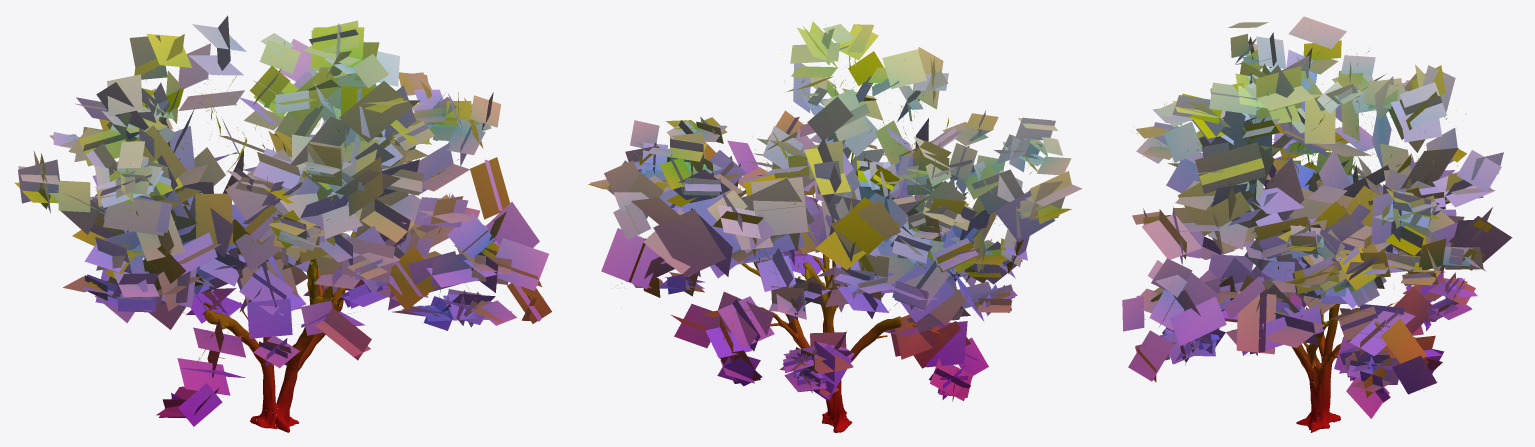
The model's file is locust.glb.
3 views of the same model, side by side, from view 1: azimuth 30°, elevation 25°; view 2: azimuth 150°, elevation 25°; view 3: azimuth 270°, elevation 25° (orthographic). The views are drawn at different scales.
Parts seen in each view (by area): view 1: cards_lod0, trunk_lod0, branches_lod0; view 2: cards_lod0, trunk_lod0, branches_lod0; view 3: cards_lod0, trunk_lod0, branches_lod0.
Boxes of the visible parts, left/top/right/bottom form: cards_lod0: left=15, top=15, right=551, bottom=426; trunk_lod0: left=204, top=231, right=356, bottom=432; branches_lod0: left=36, top=32, right=539, bottom=413; cards_lod0: left=588, top=21, right=1082, bottom=401; trunk_lod0: left=741, top=254, right=901, bottom=432; branches_lod0: left=604, top=24, right=1062, bottom=391; cards_lod0: left=1122, top=16, right=1512, bottom=418; trunk_lod0: left=1269, top=277, right=1341, bottom=432; branches_lod0: left=1132, top=23, right=1488, bottom=402.
Size of what is drawn, in the model's own units: 13.57 by 10.86 by 10.65.
